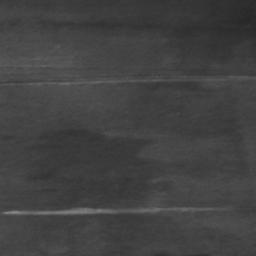Bright scratch: (5, 206, 221, 216)
